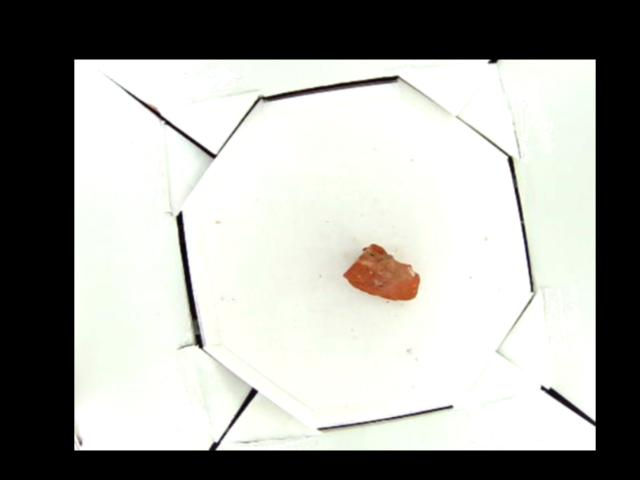Brisk: (341, 245, 419, 303)
